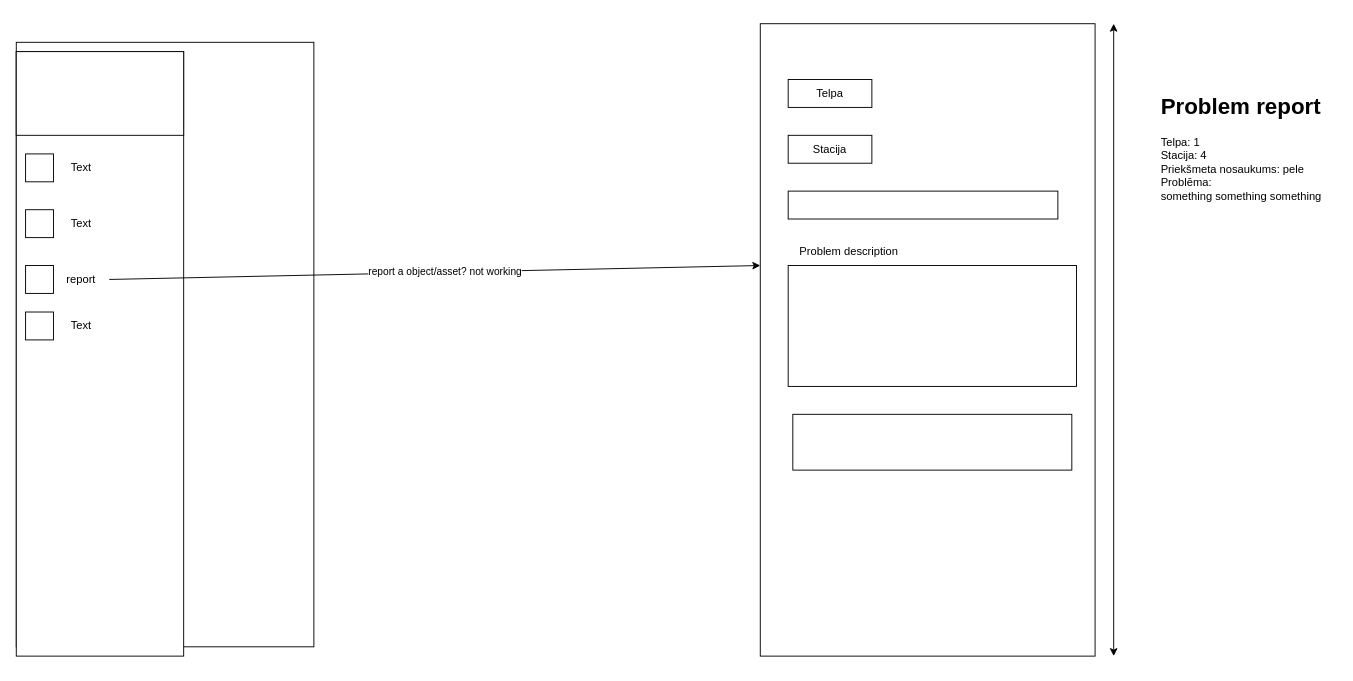
The diagram is 1353 pixels wide and 681 high, and some of its shapes have lost their labels. Here are the shapes that lost their labels. From the top down, the centre of each, then its label:
At point (922, 204): "Priekšmeta nosaukums".
At point (932, 441): "Send Report".
